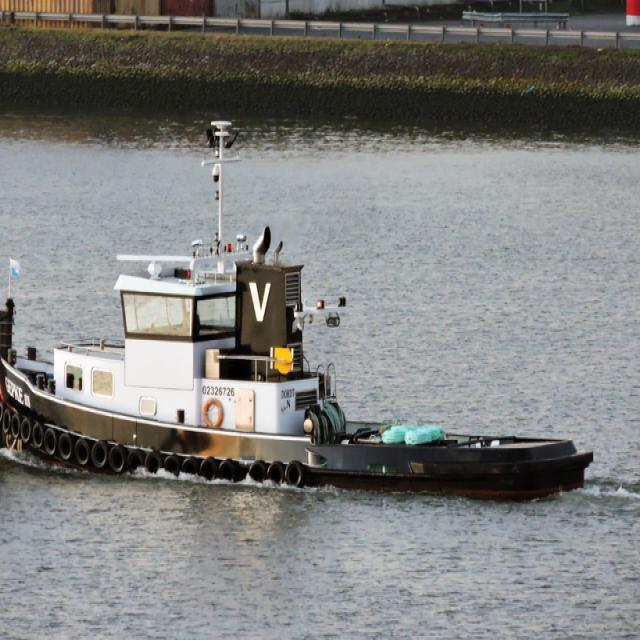tugboat: (1, 116, 598, 509)
